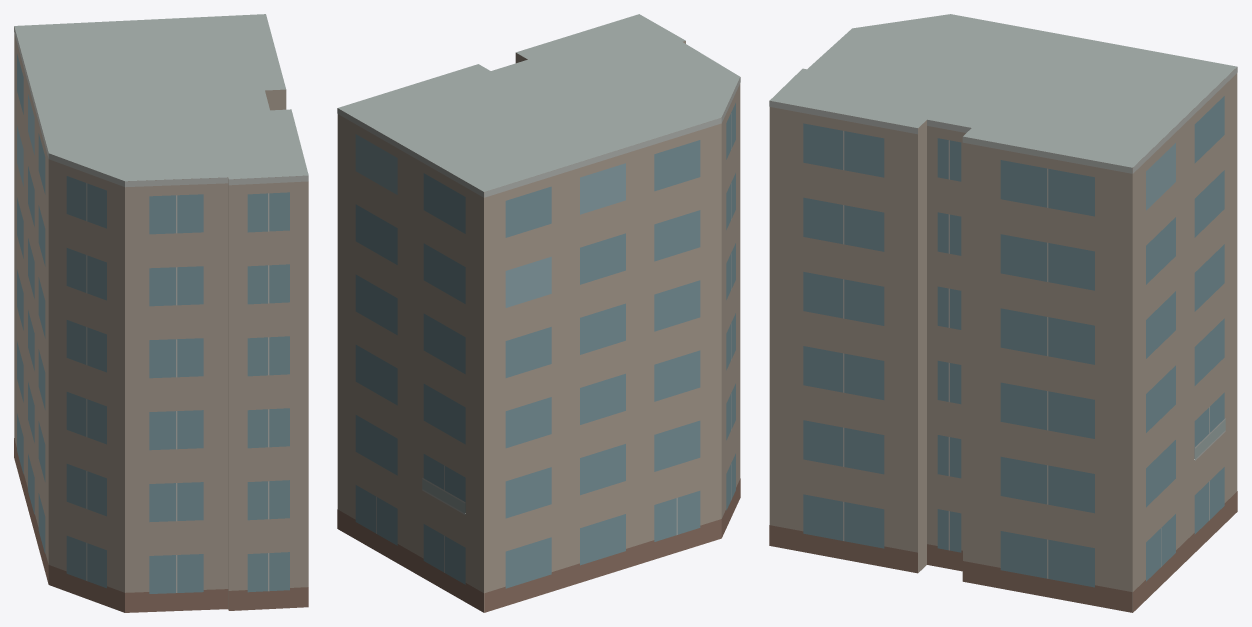
The model's file is survey-upis-32532175.glb.
3 views of the same model, side by side, from view 1: azimuth 30°, elevation 25°; view 2: azimuth 150°, elevation 25°; view 3: azimuth 270°, elevation 25° (orthographic). The views are drawn at different scales.
Visible parts, largest first — view 1: survey-upis-32532175.tmp; view 2: survey-upis-32532175.tmp; view 3: survey-upis-32532175.tmp.
Boxes of the visible parts, x1=… form: survey-upis-32532175.tmp: x1=14, y1=14, x2=308, y2=612; survey-upis-32532175.tmp: x1=337, y1=14, x2=740, y2=612; survey-upis-32532175.tmp: x1=769, y1=14, x2=1237, y2=612.
Size of the model in its own units: 13.12 by 17.7 by 16.87.
